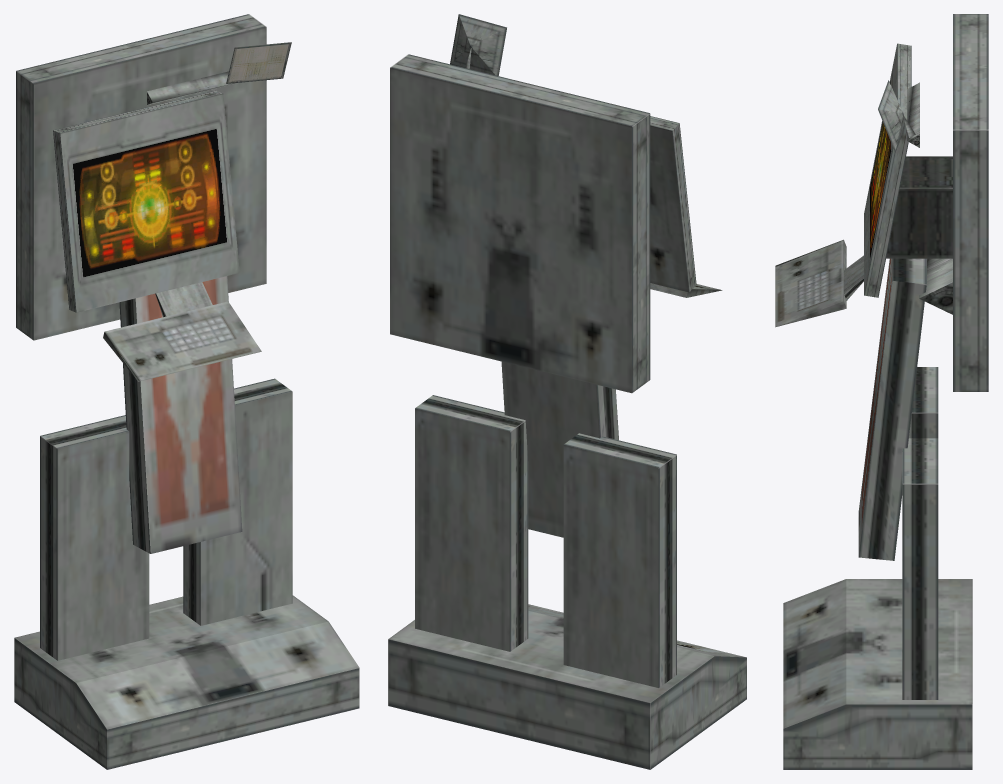
Rendered from ksk_all_mission_l2.fbx.
3 renders of one model, left to right at view 1: azimuth 30°, elevation 25°; view 2: azimuth 150°, elevation 25°; view 3: azimuth 270°, elevation 25°, orthographic. The views are drawn at different scales.
Visible parts, largest first — view 1: mesh_node; view 2: mesh_node; view 3: mesh_node.
Boxes of the visible parts, x1,y1,x2,y2 form: mesh_node: (14, 14, 359, 769); mesh_node: (388, 14, 746, 769); mesh_node: (775, 14, 988, 769).
Size of the model in its own units: 0.8471 by 2.05 by 0.6085.
